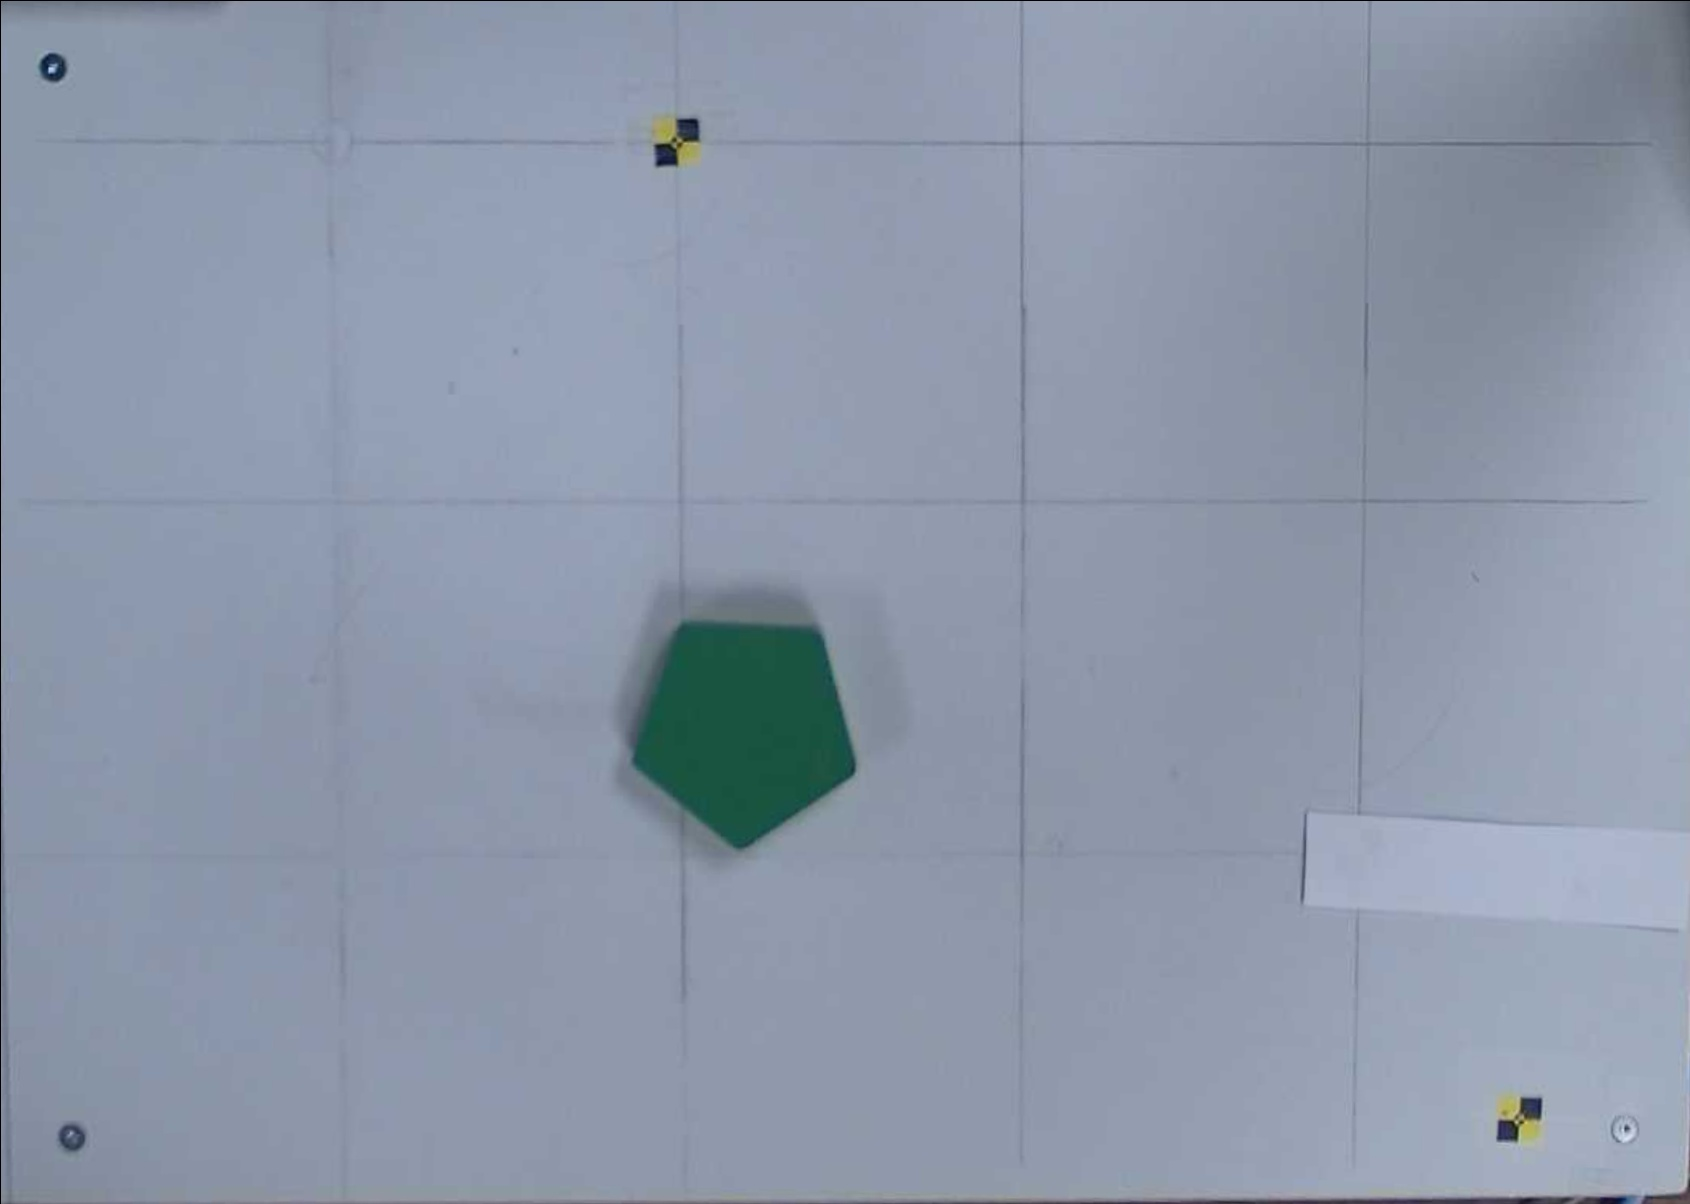Pentagon: (632, 623, 856, 850)
